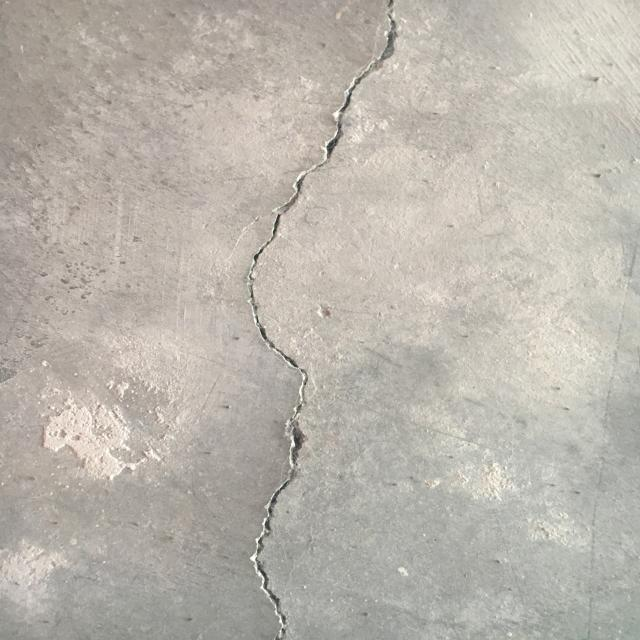Rachadura: (239, 0, 408, 640)
